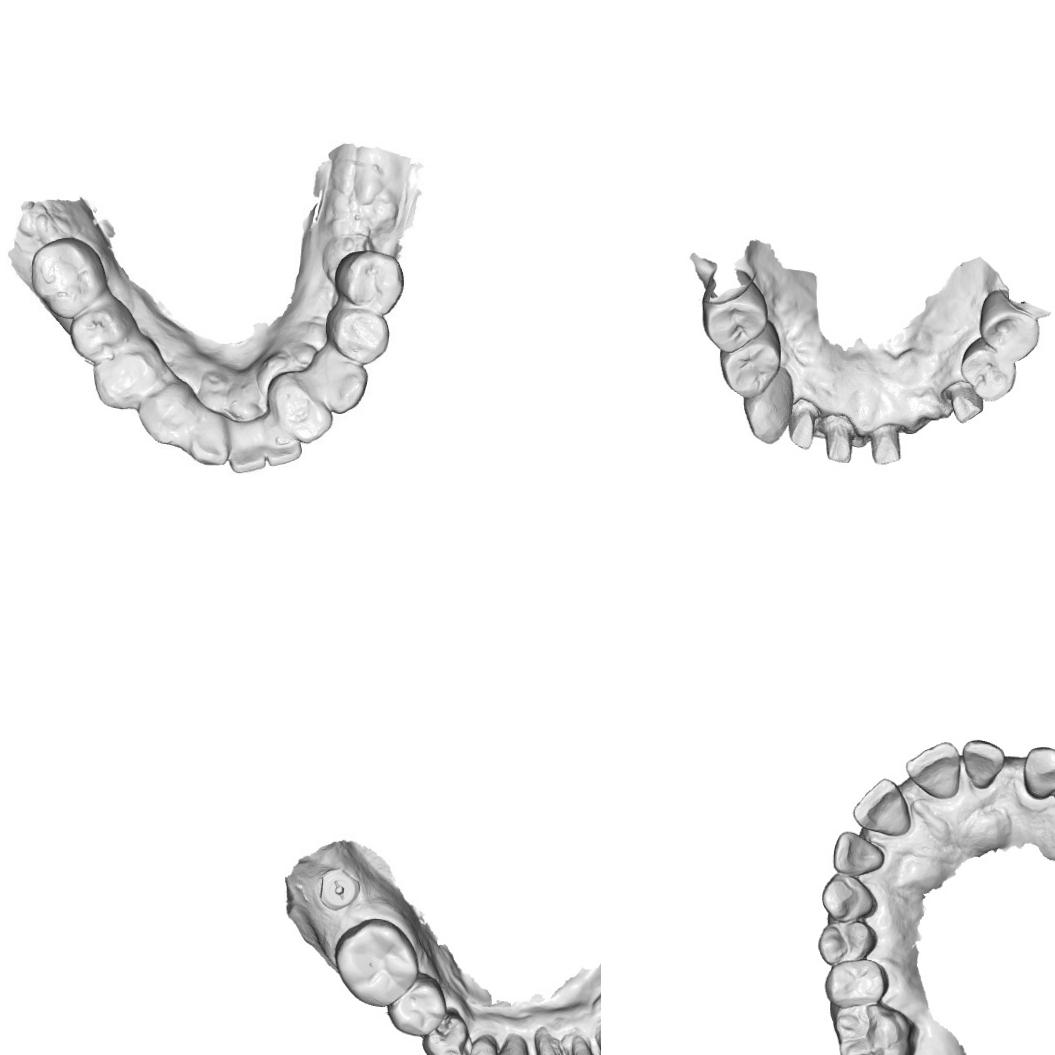canine: (742, 365, 794, 446), (317, 353, 369, 418), (820, 870, 880, 921), (136, 387, 186, 447), (1022, 744, 1055, 802), (456, 1034, 502, 1055)
crown: (940, 378, 985, 426), (864, 420, 906, 468), (788, 395, 822, 452), (822, 414, 856, 465)
implant_minus: (317, 864, 361, 910)
incisor: (268, 382, 334, 442), (850, 776, 913, 838), (903, 738, 962, 800), (831, 830, 885, 877), (226, 420, 271, 474), (186, 414, 229, 470), (960, 738, 1006, 790), (264, 419, 305, 467)
molar: (332, 916, 421, 1008), (28, 234, 110, 320), (831, 1001, 916, 1055)
premolar: (699, 282, 770, 356), (718, 320, 782, 401), (331, 249, 409, 312), (975, 290, 1042, 363), (91, 347, 158, 416), (323, 303, 391, 367), (68, 300, 131, 365), (958, 338, 1017, 404), (389, 972, 447, 1038), (822, 958, 890, 1010), (814, 918, 878, 966), (422, 1009, 471, 1055)
